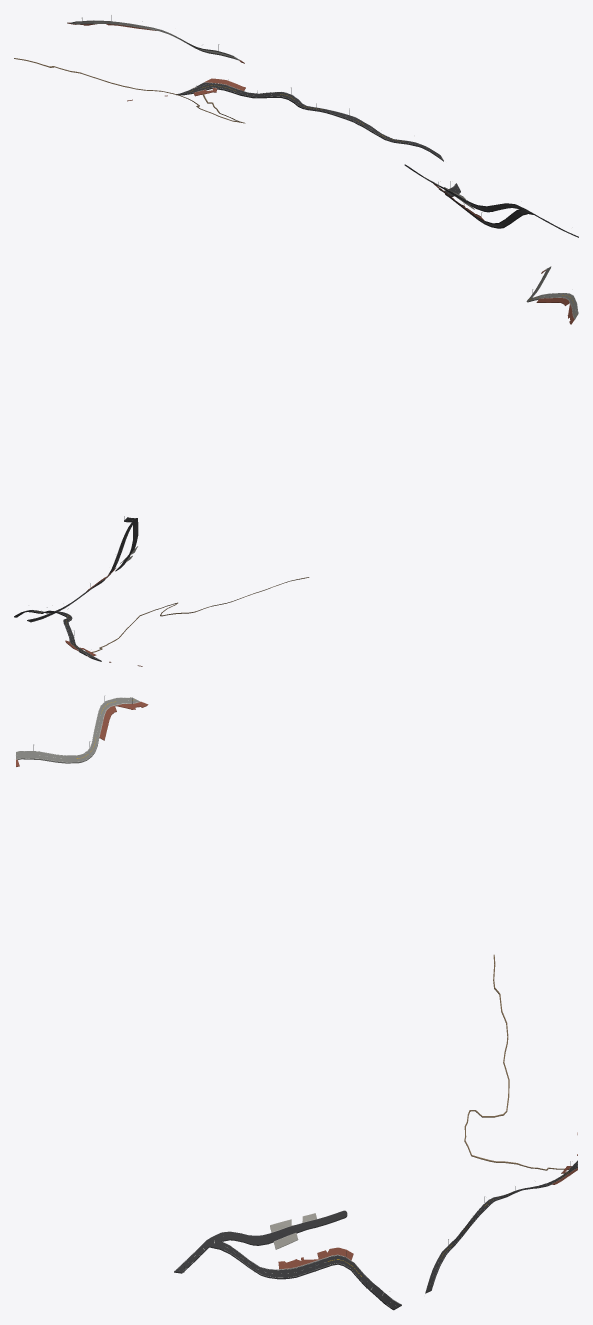
The picture shows the model from 3 angles, top to bottom: view 1: azimuth 30°, elevation 25°; view 2: azimuth 150°, elevation 25°; view 3: azimuth 270°, elevation 25°; orthographic projection. The views are drawn at different scales.
Bounding box in the file's own units: 592 × 442 × 586.
